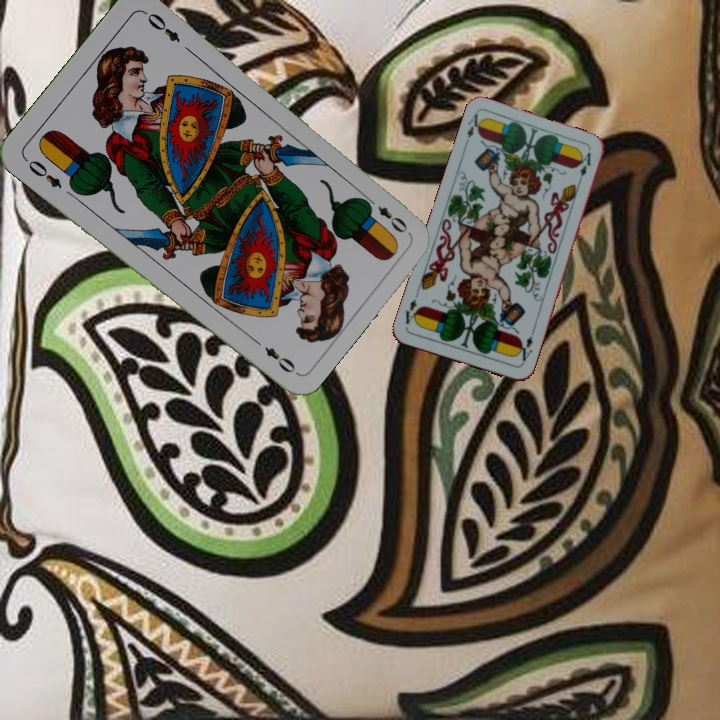EA: (513, 332, 535, 366), (463, 110, 485, 140)
EO: (361, 193, 411, 236), (20, 154, 65, 191)
